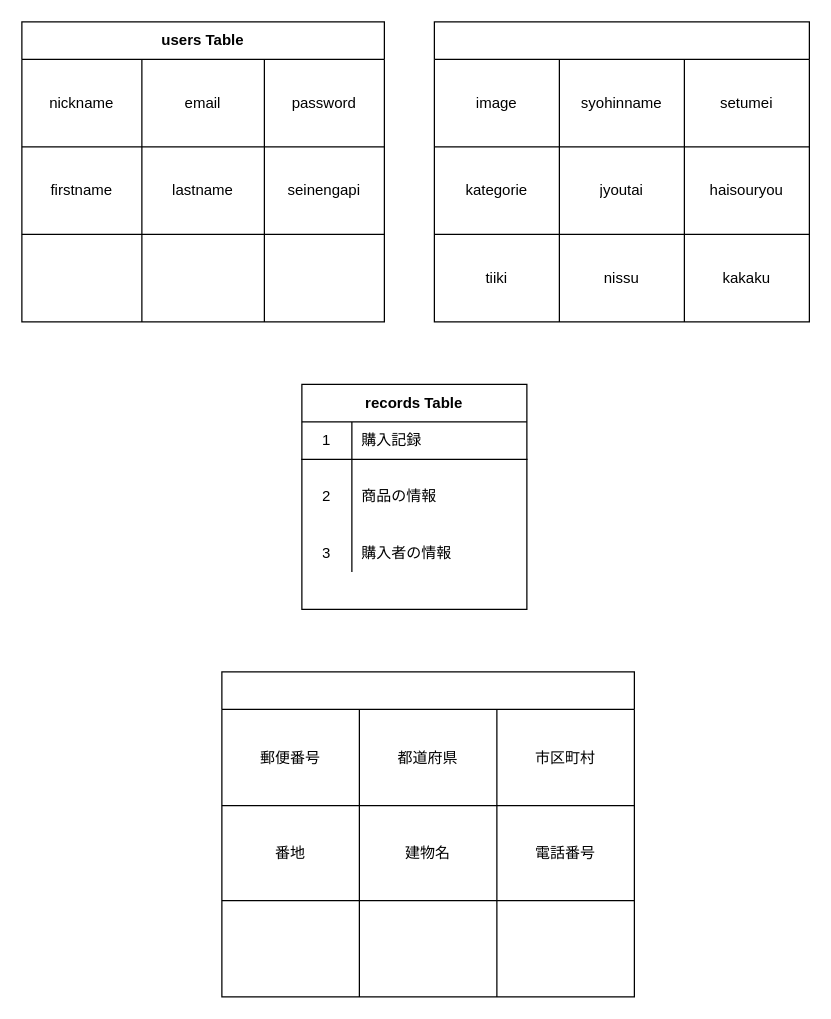
This 831x1019 diagram has some shape labels left out. The box of each missing label's shape, as (x1, y1, x2, y2) in pixels:
haisos Table: (221, 671, 634, 997)
syohins Table: (433, 21, 809, 322)
